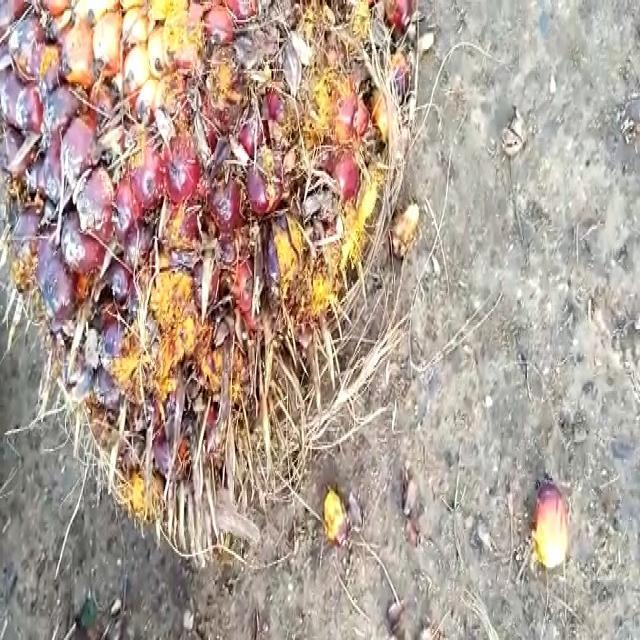palm oil: (0, 9, 439, 572)
